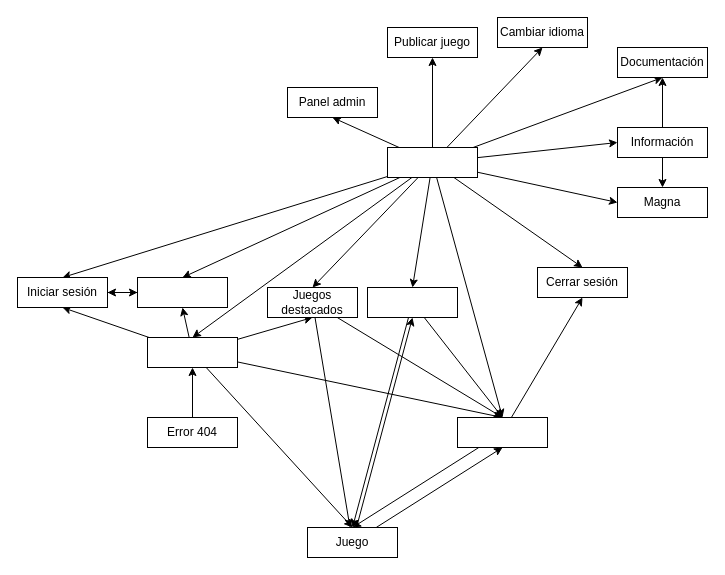
This 725x575 diagram has some shape labels left out. Each missing label, with the box of its shape:
Búsqueda: (366, 286, 458, 318)
Cabecera: (386, 146, 478, 178)
Inicio: (146, 336, 238, 368)
Perfil: (456, 416, 548, 448)
Registrarse: (136, 276, 228, 308)
